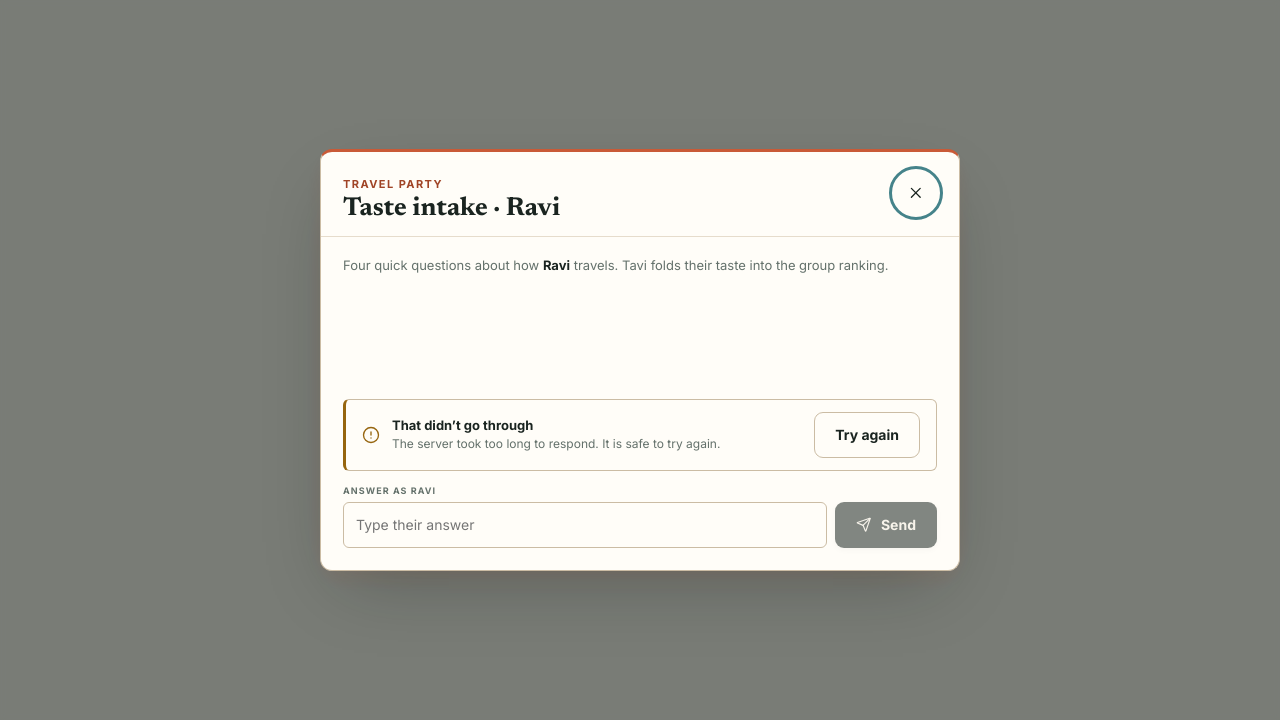
offers a safe retry when the opener fails with a retryable error
The width and height of the screenshot is (1280, 720).
Expected: the text "took too long" is shown, [392, 436, 720, 451]
Click the button "Try again" at (867, 435), box [814, 412, 920, 458]
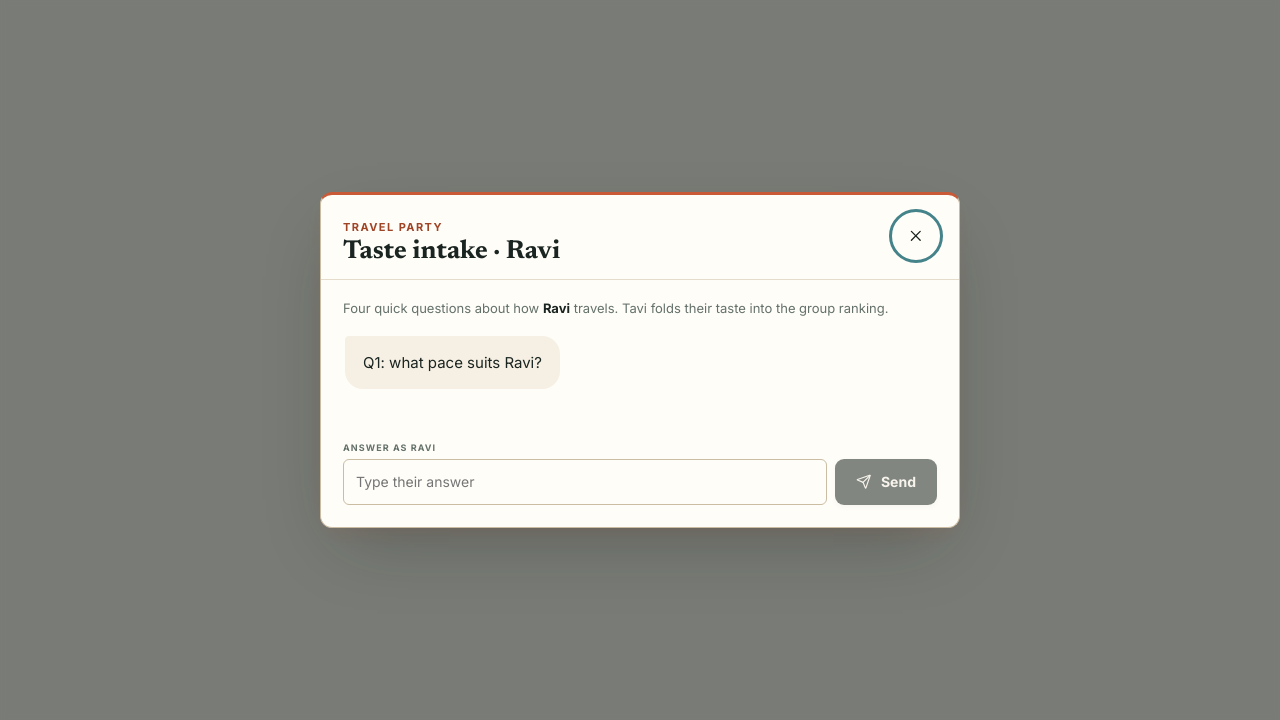
Expected: the text "Q1: what pace suits Ravi?" is shown, [345, 336, 560, 389]
